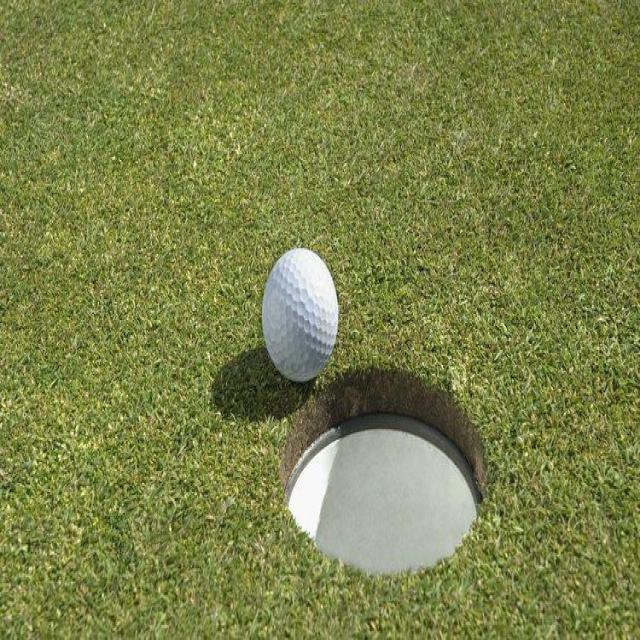ball: (260, 242, 342, 387)
